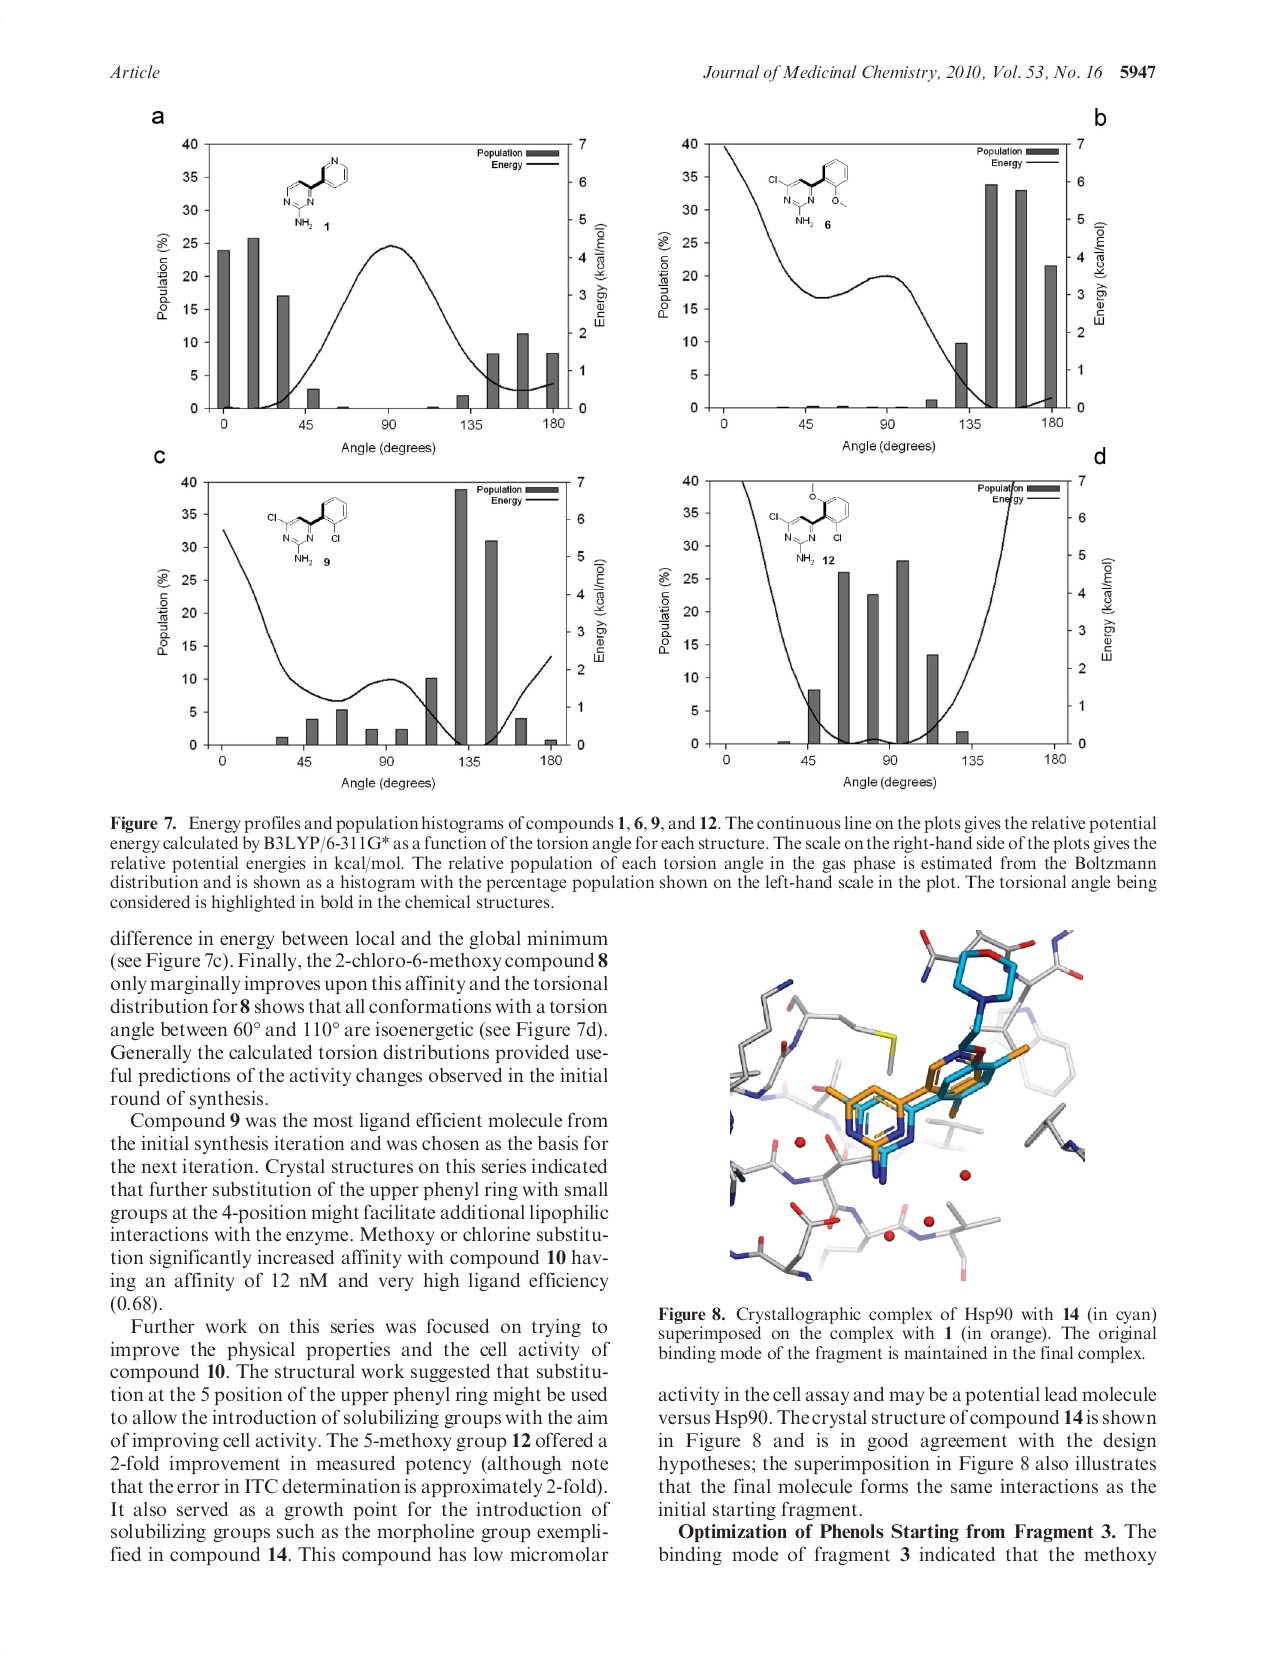exist_molecular: (267, 149, 364, 239), (761, 149, 868, 230), (265, 493, 367, 578), (761, 488, 858, 567)
